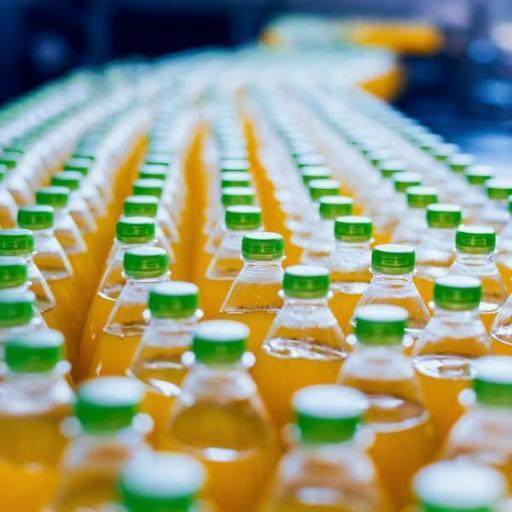bottle: (154, 312, 282, 486), (414, 276, 492, 401), (274, 260, 348, 386), (216, 198, 288, 320), (128, 287, 207, 385)
